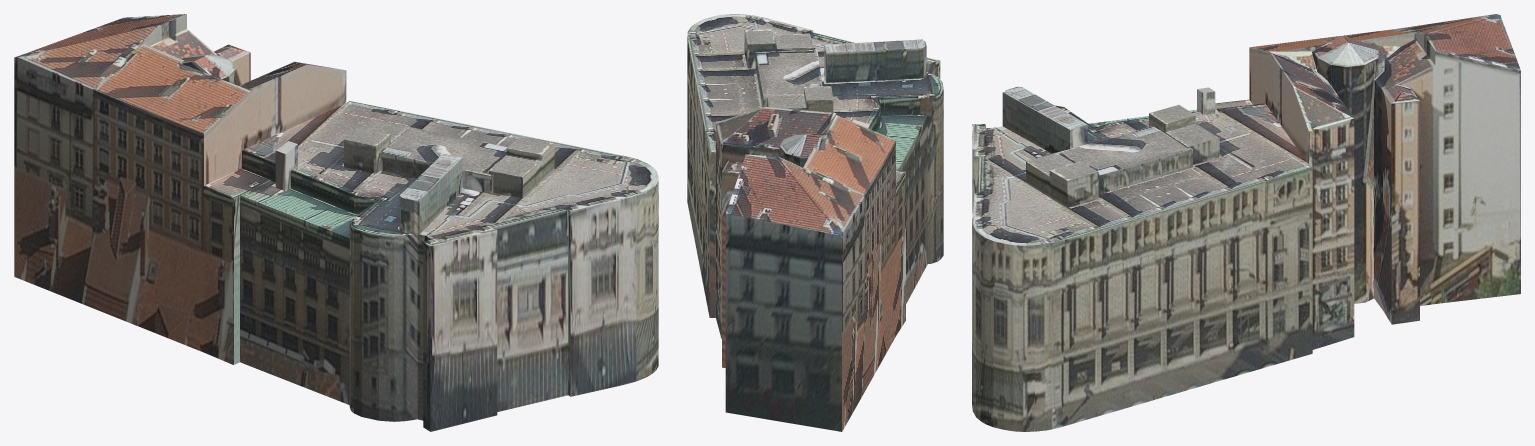
The model's file is LYON_1ER_00044.dae.
3 views of the same model, side by side, from view 1: azimuth 30°, elevation 25°; view 2: azimuth 150°, elevation 25°; view 3: azimuth 270°, elevation 25° (orthographic). The views are drawn at different scales.
Size of the model in its own units: 46.53 by 54.87 by 28.08.
2 materials, 2 textured.
